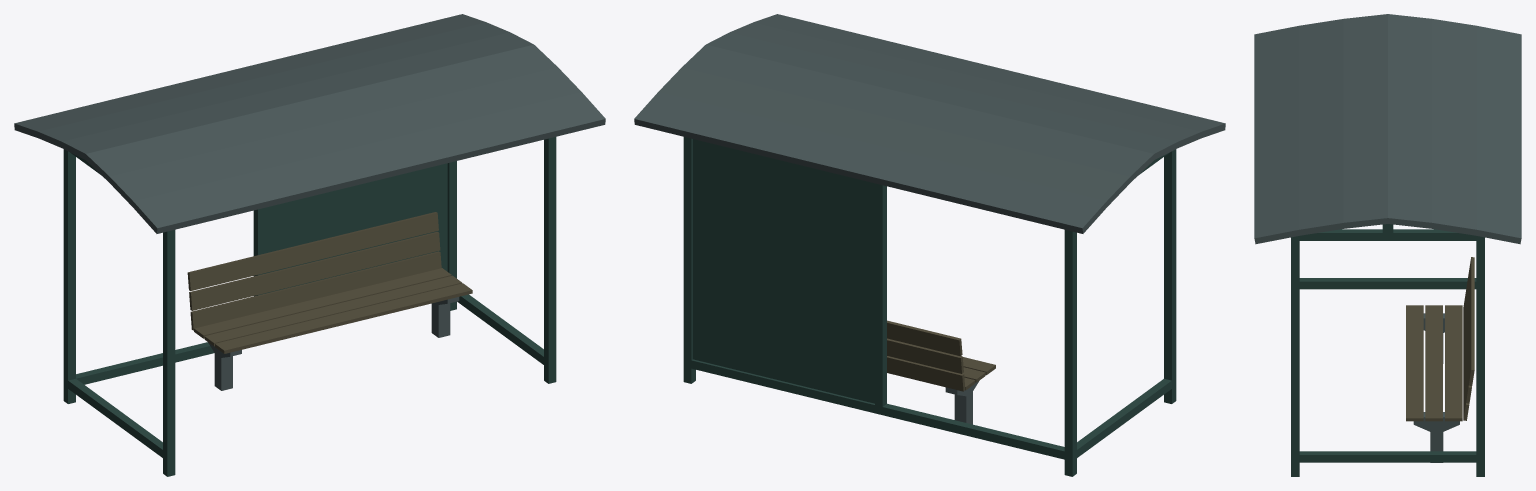
Rendered from BusStop.fbx.
3 views of the same model, side by side, from view 1: azimuth 30°, elevation 25°; view 2: azimuth 150°, elevation 25°; view 3: azimuth 270°, elevation 25° (orthographic). The views are drawn at different scales.
Visible parts, largest first — view 1: BusStop; view 2: BusStop; view 3: BusStop.
Boxes of the visible parts, <box> form: BusStop: <box>14,14,605,476</box>; BusStop: <box>634,14,1225,476</box>; BusStop: <box>1254,14,1521,476</box>.
Bounding box in the file's own units: 433 × 270 × 240.
